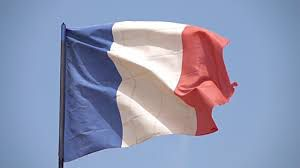French Flag: (58, 18, 242, 160)
